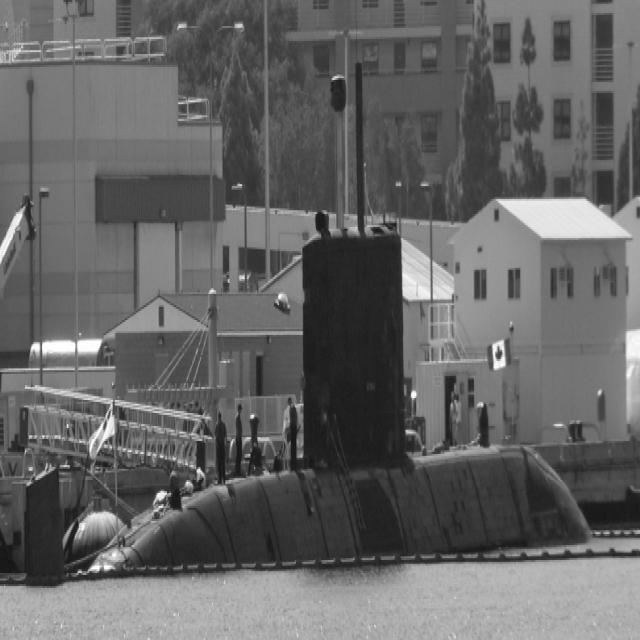submarine: (15, 55, 593, 578)
